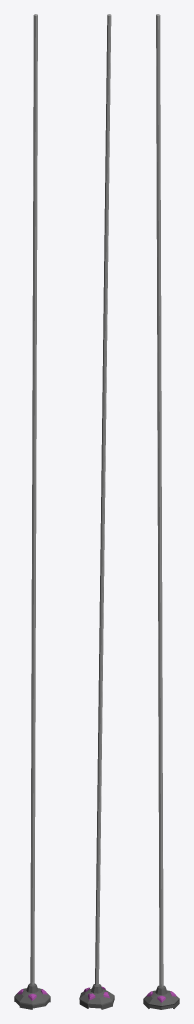
File: Light 1.fbx
3 renders of one model, left to right at view 1: azimuth 90°, elevation 25°; view 2: azimuth 150°, elevation 25°; view 3: azimuth 270°, elevation 25°, orthographic.
Visible parts, largest first — view 1: pTorus15; view 2: pTorus15; view 3: pTorus15.
Boxes of the visible parts, left/top/right/bottom form: pTorus15: left=14, top=14, right=50, bottom=1009; pTorus15: left=79, top=14, right=114, bottom=1009; pTorus15: left=143, top=14, right=179, bottom=1009.
Size of the model in its own units: 2.02 by 60.13 by 2.01.
